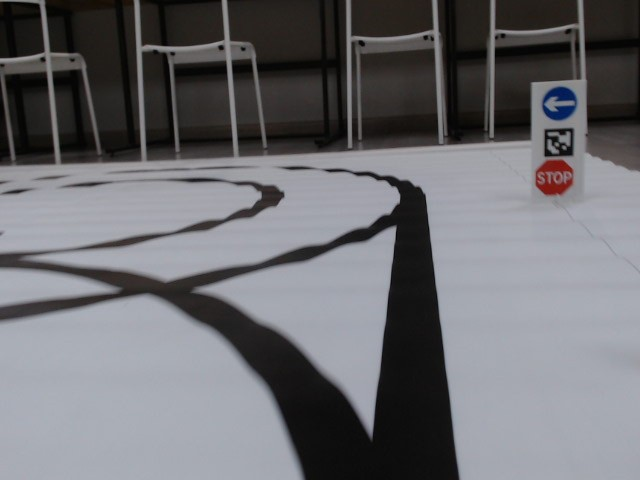Stop: (534, 159, 575, 198)
